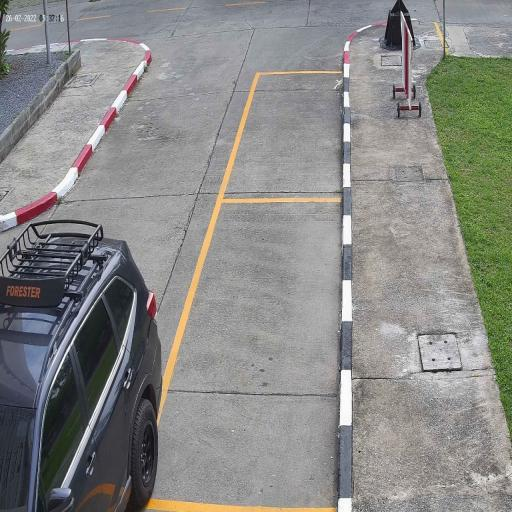car: (0, 232, 164, 512)
